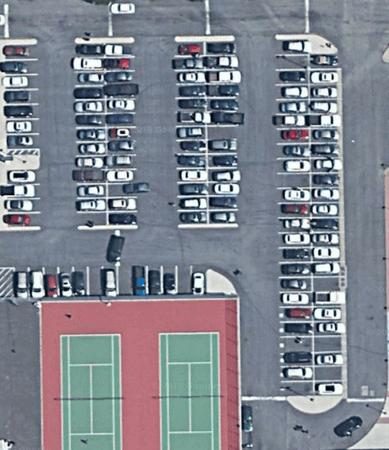parkingspot: (272, 37, 315, 400), (308, 51, 349, 398), (13, 261, 209, 299), (203, 39, 241, 227), (173, 39, 210, 227), (72, 41, 109, 229), (104, 41, 141, 227), (3, 41, 41, 151), (5, 167, 42, 229)
